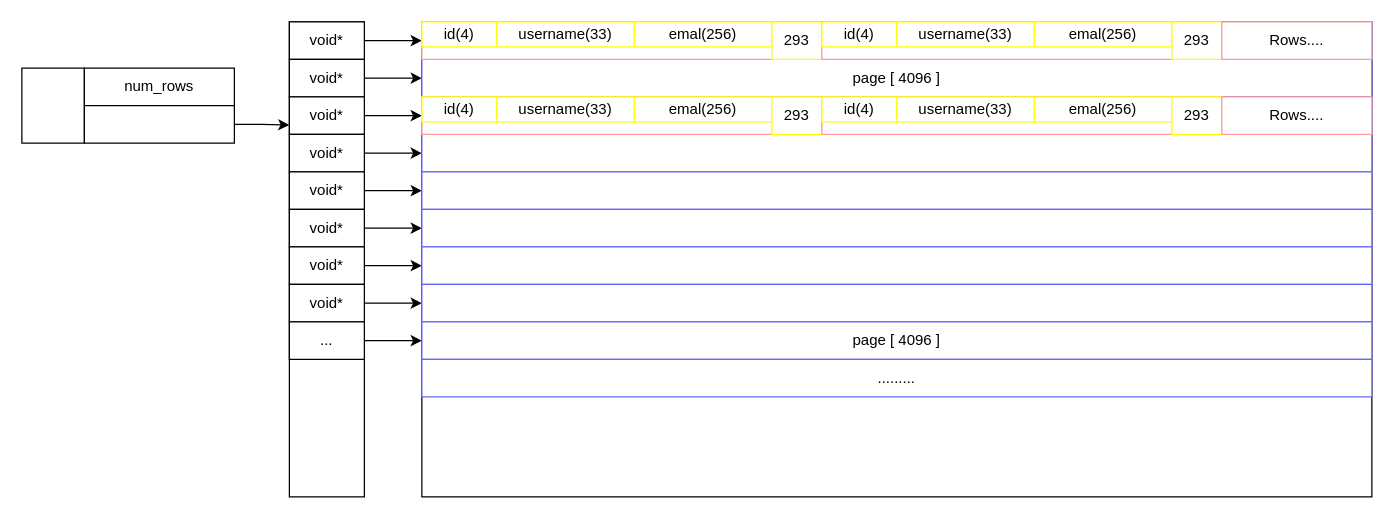
The diagram is 1394 pixels wide and 519 high, and some of its shapes have lost their labels. The shapes that lost their labels are listed below. From the top down, each one's centre as x and y in pixels, then its label:
At (52,105): "Table".
At (158,123): "pages 数组（void*）".
